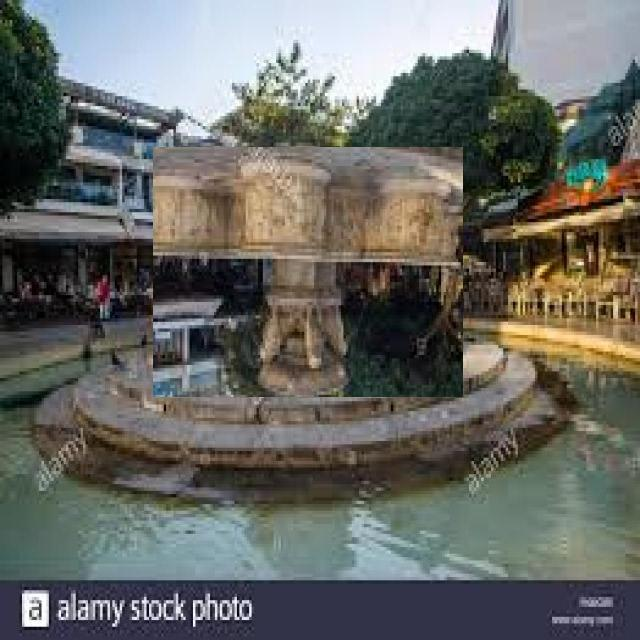Liontaria: (155, 148, 465, 398)
